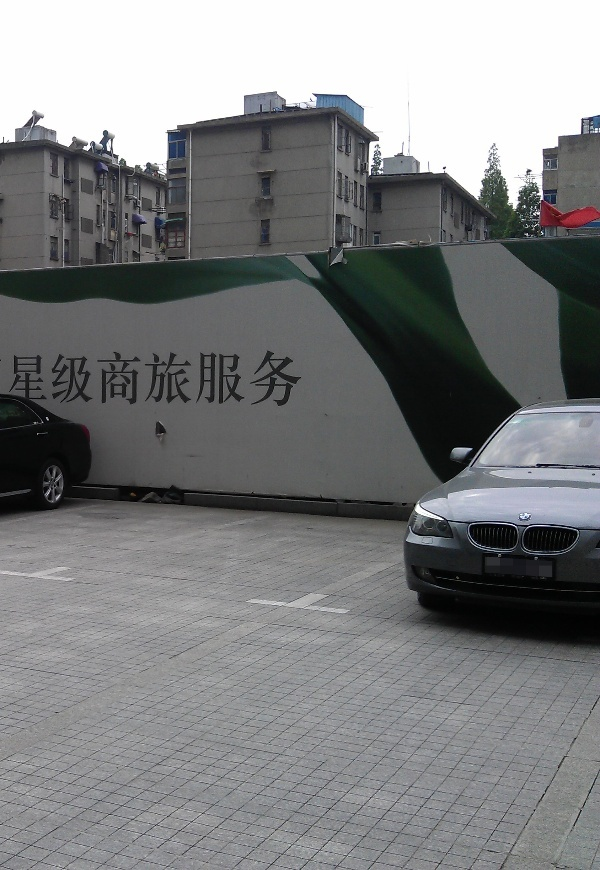text: (17, 352, 32, 410), (33, 352, 48, 410), (49, 352, 64, 410), (65, 352, 80, 410), (81, 352, 96, 410), (97, 352, 112, 410), (113, 352, 128, 410), (129, 352, 144, 410), (145, 352, 160, 410), (161, 352, 176, 410), (177, 352, 192, 410), (193, 352, 208, 410), (209, 352, 224, 410), (225, 352, 240, 410), (241, 352, 256, 410), (257, 352, 272, 410), (273, 352, 288, 410), (289, 352, 303, 410), (4, 352, 16, 410)
